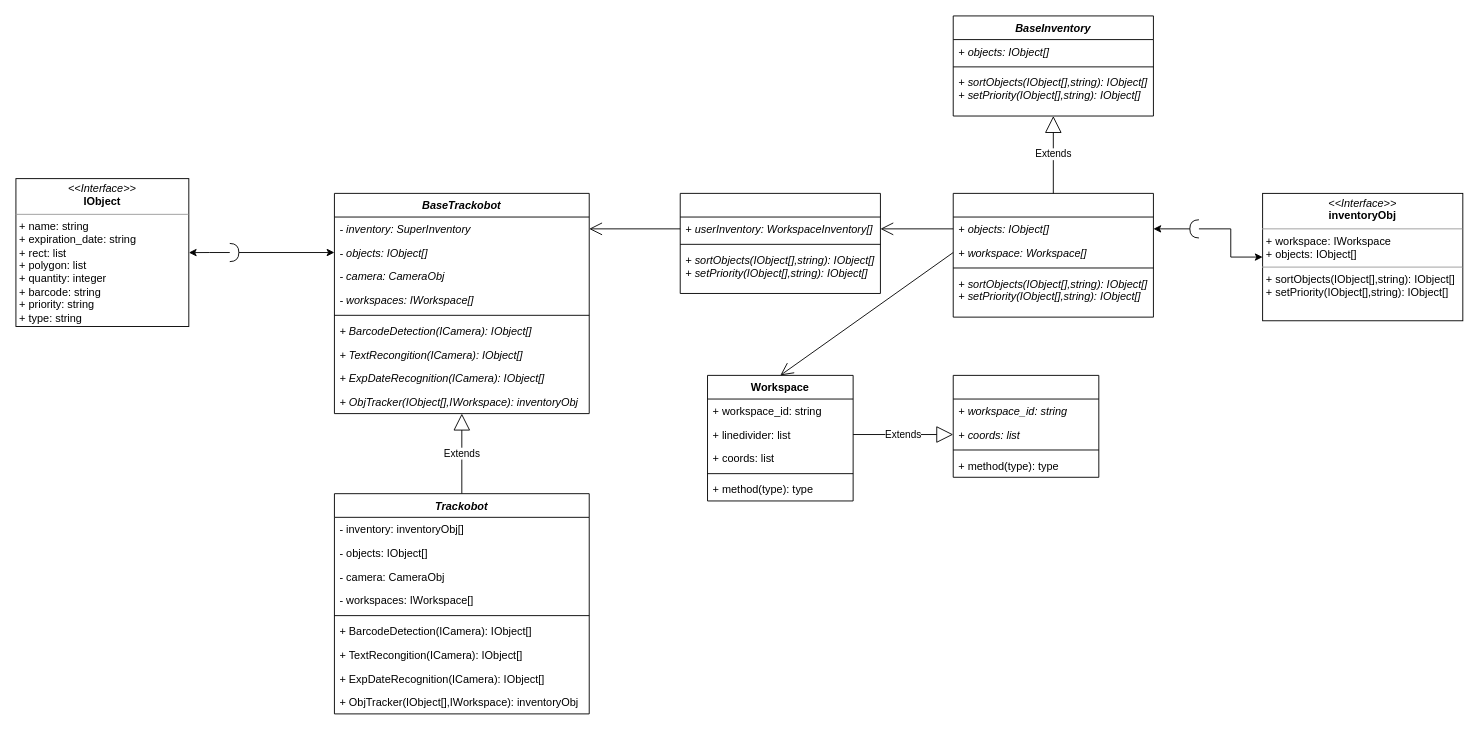
The diagram is 1479 pixels wide and 733 high, and some of its shapes have lost their labels. The box of each missing label's shape, as (x1, y1, x2, y2) in pixels:
BaseWorkspace: (952, 374, 1099, 477)
SuperInventory: (679, 192, 880, 293)
WorkspaceInventory: (952, 192, 1153, 317)
